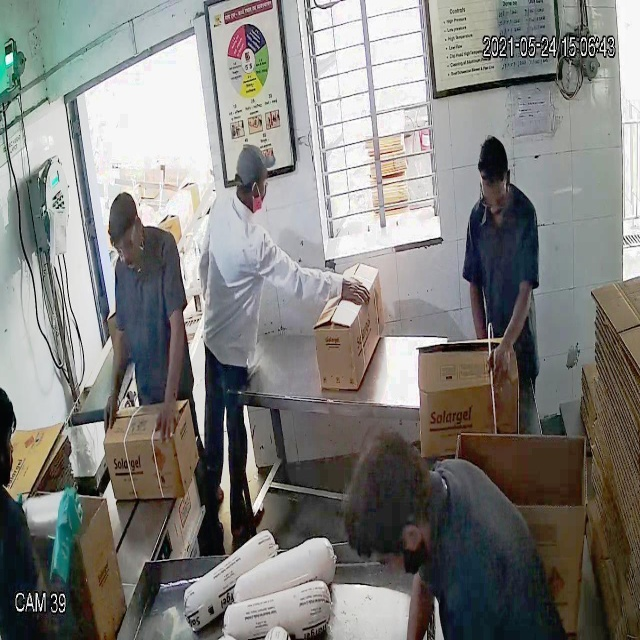Gafas: (108, 230, 140, 262)
